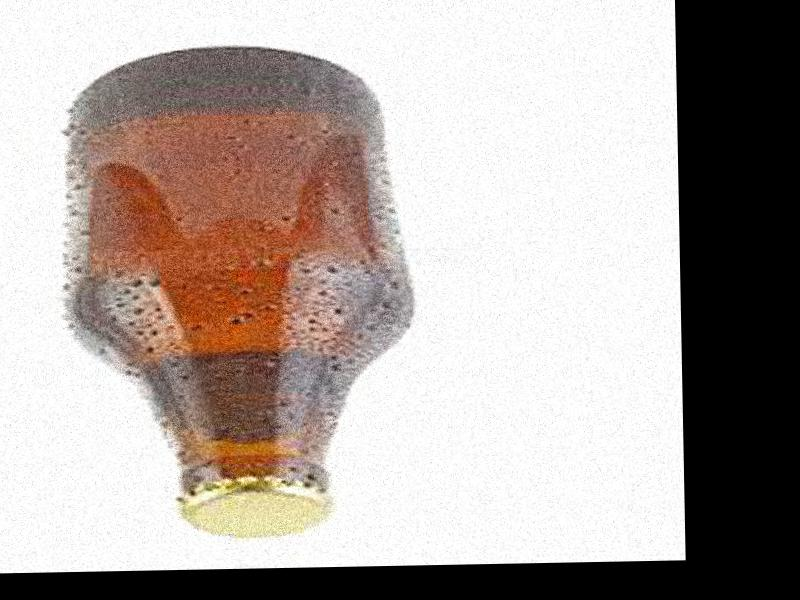Beer: (68, 46, 392, 540)
